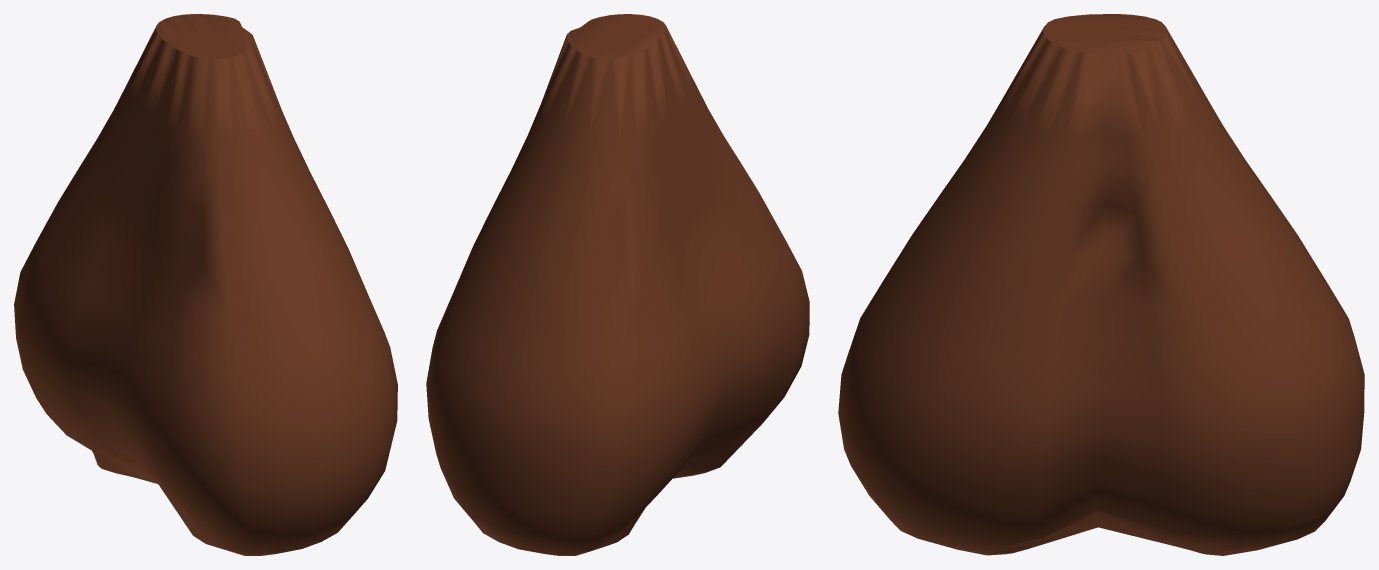
The model's file is Scrotum.fbx.
3 views of the same model, side by side, from view 1: azimuth 30°, elevation 25°; view 2: azimuth 150°, elevation 25°; view 3: azimuth 270°, elevation 25° (orthographic). The views are drawn at different scales.
Parts seen in each view (by area): view 1: scrotum; view 2: scrotum; view 3: scrotum.
Boxes of the visible parts, bbox=[...] form: scrotum: bbox=[14, 14, 397, 555]; scrotum: bbox=[426, 14, 809, 555]; scrotum: bbox=[838, 14, 1364, 555].
Size of the model in its own units: 59.87 by 108 by 101.
1 material, 1 textured.
